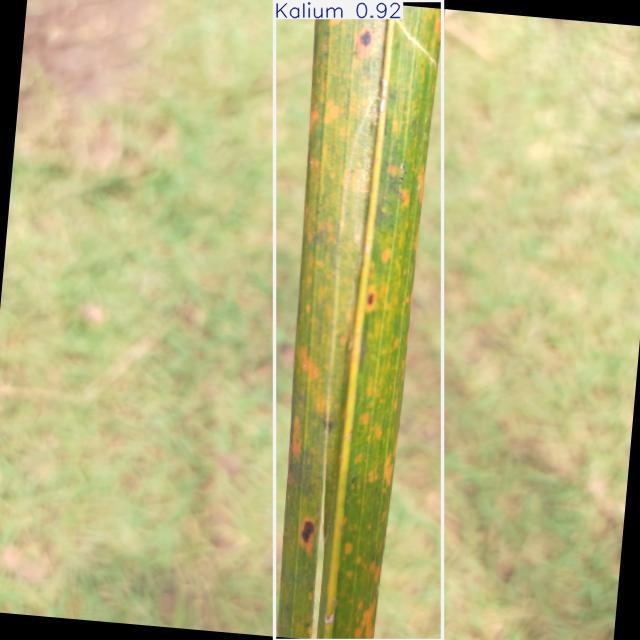Kalium: (275, 0, 443, 640)
